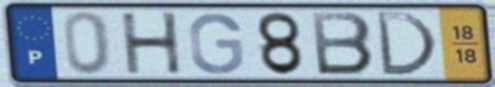0: (60, 9, 114, 78)
8: (254, 10, 305, 77)
B: (308, 10, 377, 77)
D: (372, 10, 441, 79)
G: (186, 10, 246, 77)
H: (117, 10, 185, 77)
